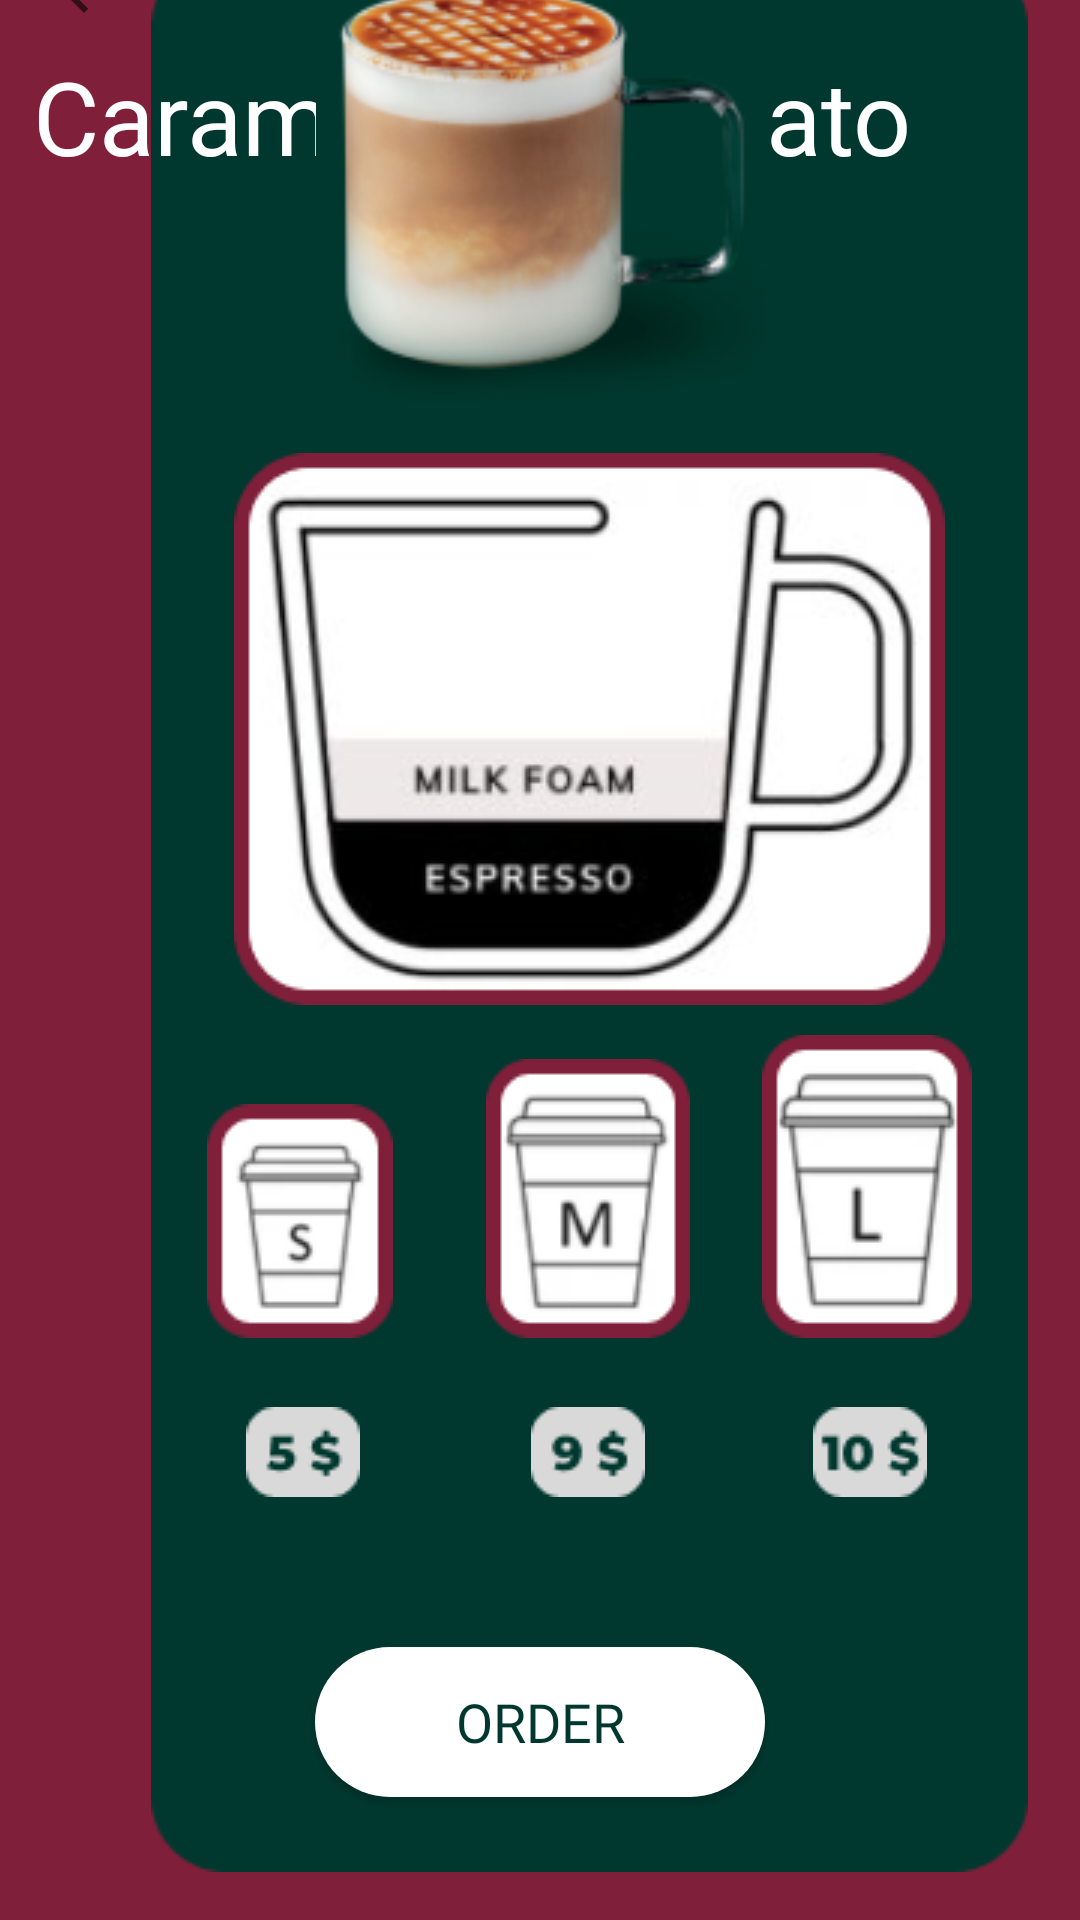

Icon bounding boxes for this 1080x1920 phone screenshot, format detection(x1, y1, x2, y2):
size coffee: detection(762, 1035, 972, 1338), detection(486, 1059, 690, 1338), detection(207, 1104, 393, 1338)
